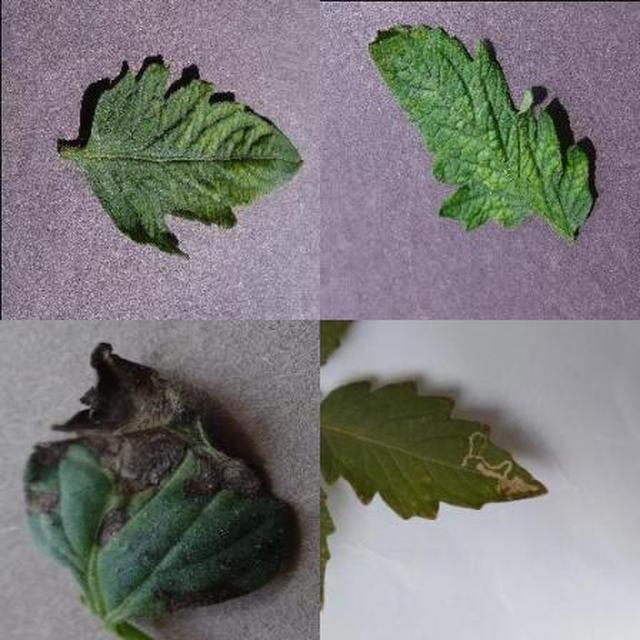Mosaic Virus Leaf: (231, 181, 640, 640)
